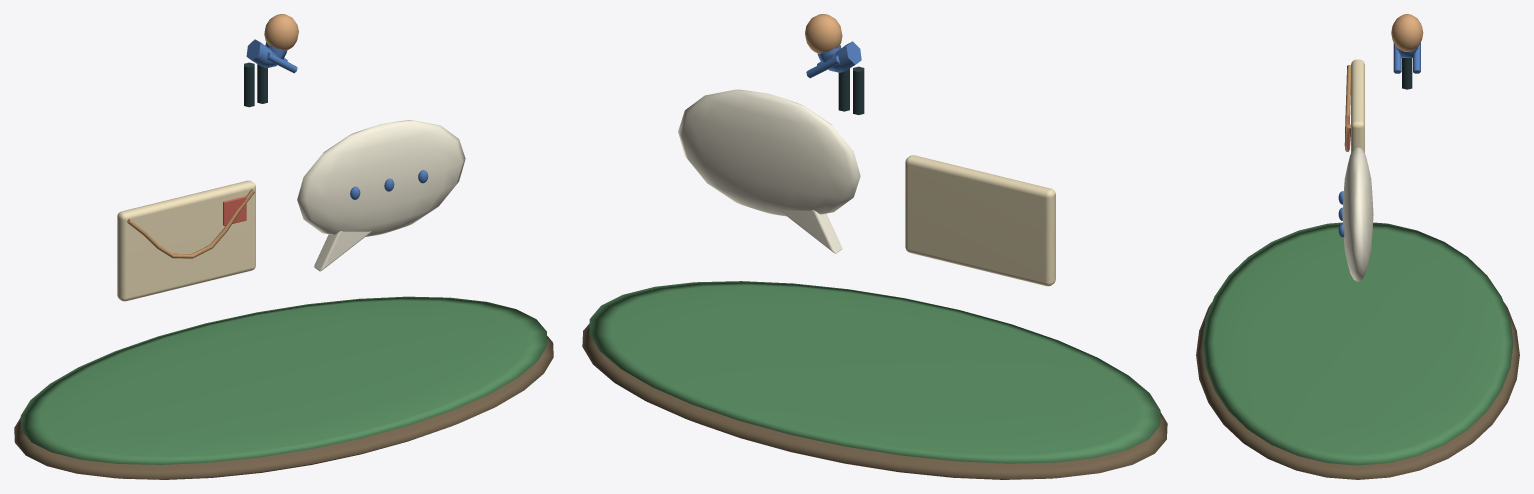
Rendered from complete-third-inviting-please.glb.
3 renders of one model, left to right at view 1: azimuth 30°, elevation 25°; view 2: azimuth 150°, elevation 25°; view 3: azimuth 270°, elevation 25°, orthographic. The views are drawn at different scales.
Visible parts, largest first — view 1: complete-third-inviting-please_surface_01, complete-third-inviting-please_surface_05, complete-third-inviting-please_surface_02, complete-third-inviting-please_surface_00, complete-third-inviting-please_surface_06, complete-third-inviting-please_surface_07, complete-third-inviting-please_surface_08, complete-third-inviting-please_surface_03; view 2: complete-third-inviting-please_surface_01, complete-third-inviting-please_surface_05, complete-third-inviting-please_surface_02, complete-third-inviting-please_surface_00, complete-third-inviting-please_surface_07, complete-third-inviting-please_surface_06, complete-third-inviting-please_surface_08; view 3: complete-third-inviting-please_surface_01, complete-third-inviting-please_surface_00, complete-third-inviting-please_surface_05, complete-third-inviting-please_surface_02, complete-third-inviting-please_surface_07, complete-third-inviting-please_surface_06, complete-third-inviting-please_surface_03.
Boxes of the visible parts, left/top/right/bottom form: complete-third-inviting-please_surface_01: left=20, top=296, right=547, bottom=464; complete-third-inviting-please_surface_05: left=297, top=120, right=465, bottom=271; complete-third-inviting-please_surface_02: left=117, top=180, right=255, bottom=301; complete-third-inviting-please_surface_00: left=14, top=336, right=553, bottom=479; complete-third-inviting-please_surface_06: left=246, top=39, right=428, bottom=199; complete-third-inviting-please_surface_07: left=264, top=14, right=298, bottom=50; complete-third-inviting-please_surface_08: left=244, top=62, right=267, bottom=107; complete-third-inviting-please_surface_03: left=127, top=189, right=254, bottom=258; complete-third-inviting-please_surface_01: left=589, top=281, right=1160, bottom=463; complete-third-inviting-please_surface_05: left=678, top=89, right=860, bottom=253; complete-third-inviting-please_surface_02: left=905, top=155, right=1055, bottom=286; complete-third-inviting-please_surface_00: left=582, top=323, right=1167, bottom=479; complete-third-inviting-please_surface_07: left=805, top=14, right=842, bottom=53; complete-third-inviting-please_surface_06: left=806, top=41, right=861, bottom=78; complete-third-inviting-please_surface_08: left=838, top=66, right=864, bottom=114; complete-third-inviting-please_surface_01: left=1202, top=222, right=1513, bottom=465; complete-third-inviting-please_surface_00: left=1196, top=302, right=1519, bottom=479; complete-third-inviting-please_surface_05: left=1342, top=147, right=1373, bottom=281; complete-third-inviting-please_surface_02: left=1351, top=59, right=1364, bottom=152; complete-third-inviting-please_surface_07: left=1391, top=14, right=1423, bottom=51; complete-third-inviting-please_surface_06: left=1338, top=43, right=1420, bottom=237; complete-third-inviting-please_surface_03: left=1344, top=65, right=1350, bottom=151.
Size of the model in its own units: 4.56 by 3.11 by 2.5.
